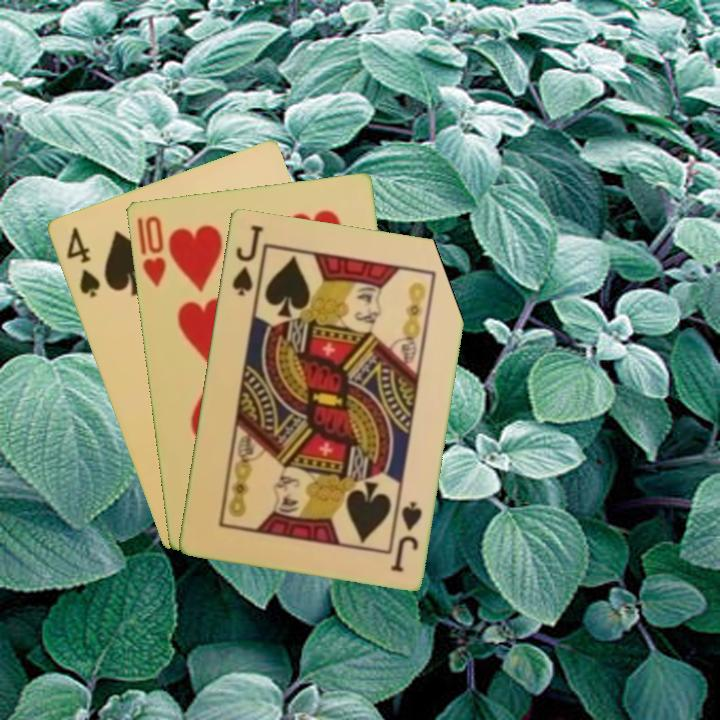10h: (133, 212, 168, 289)
4s: (62, 222, 103, 300)
Js: (228, 221, 266, 299), (387, 497, 425, 575)
